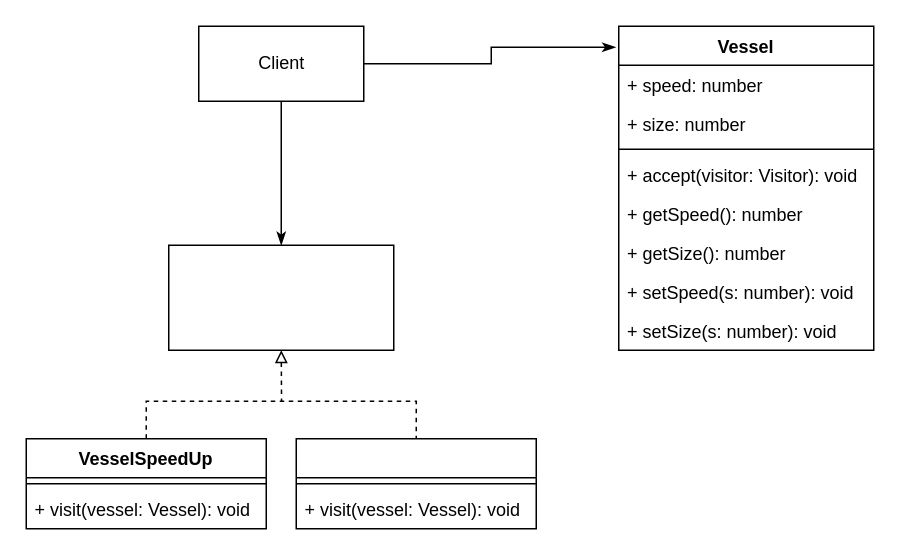
Some shapes in this 900 by 560 pixel diagram are drawn without their labels. Each missing label, with the box of its shape:
<<Interface>> Visitor + visit(visitor: Vessel): void: (167, 244, 394, 350)
VesselEnlarge: (295, 437, 536, 529)
